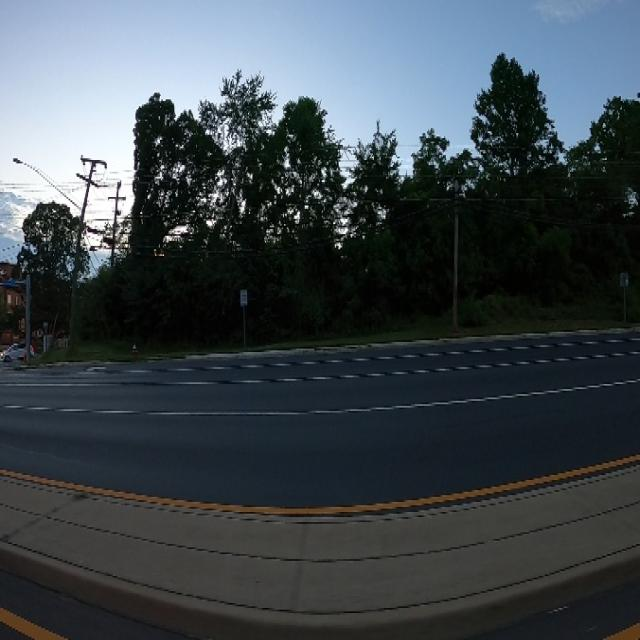cars: (0, 334, 35, 372)
